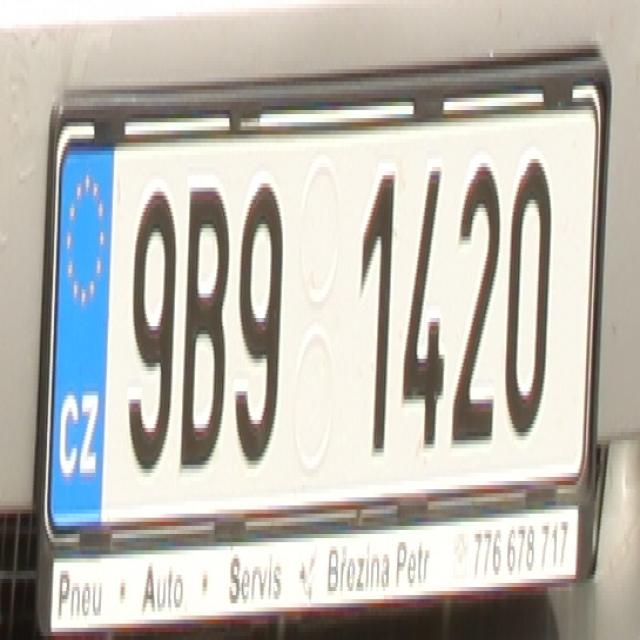0: (502, 155, 548, 432)
1: (360, 167, 394, 465)
2: (451, 155, 495, 444)
4: (401, 167, 448, 449)
9: (235, 179, 282, 465), (127, 179, 174, 465)
B: (177, 183, 228, 477)
